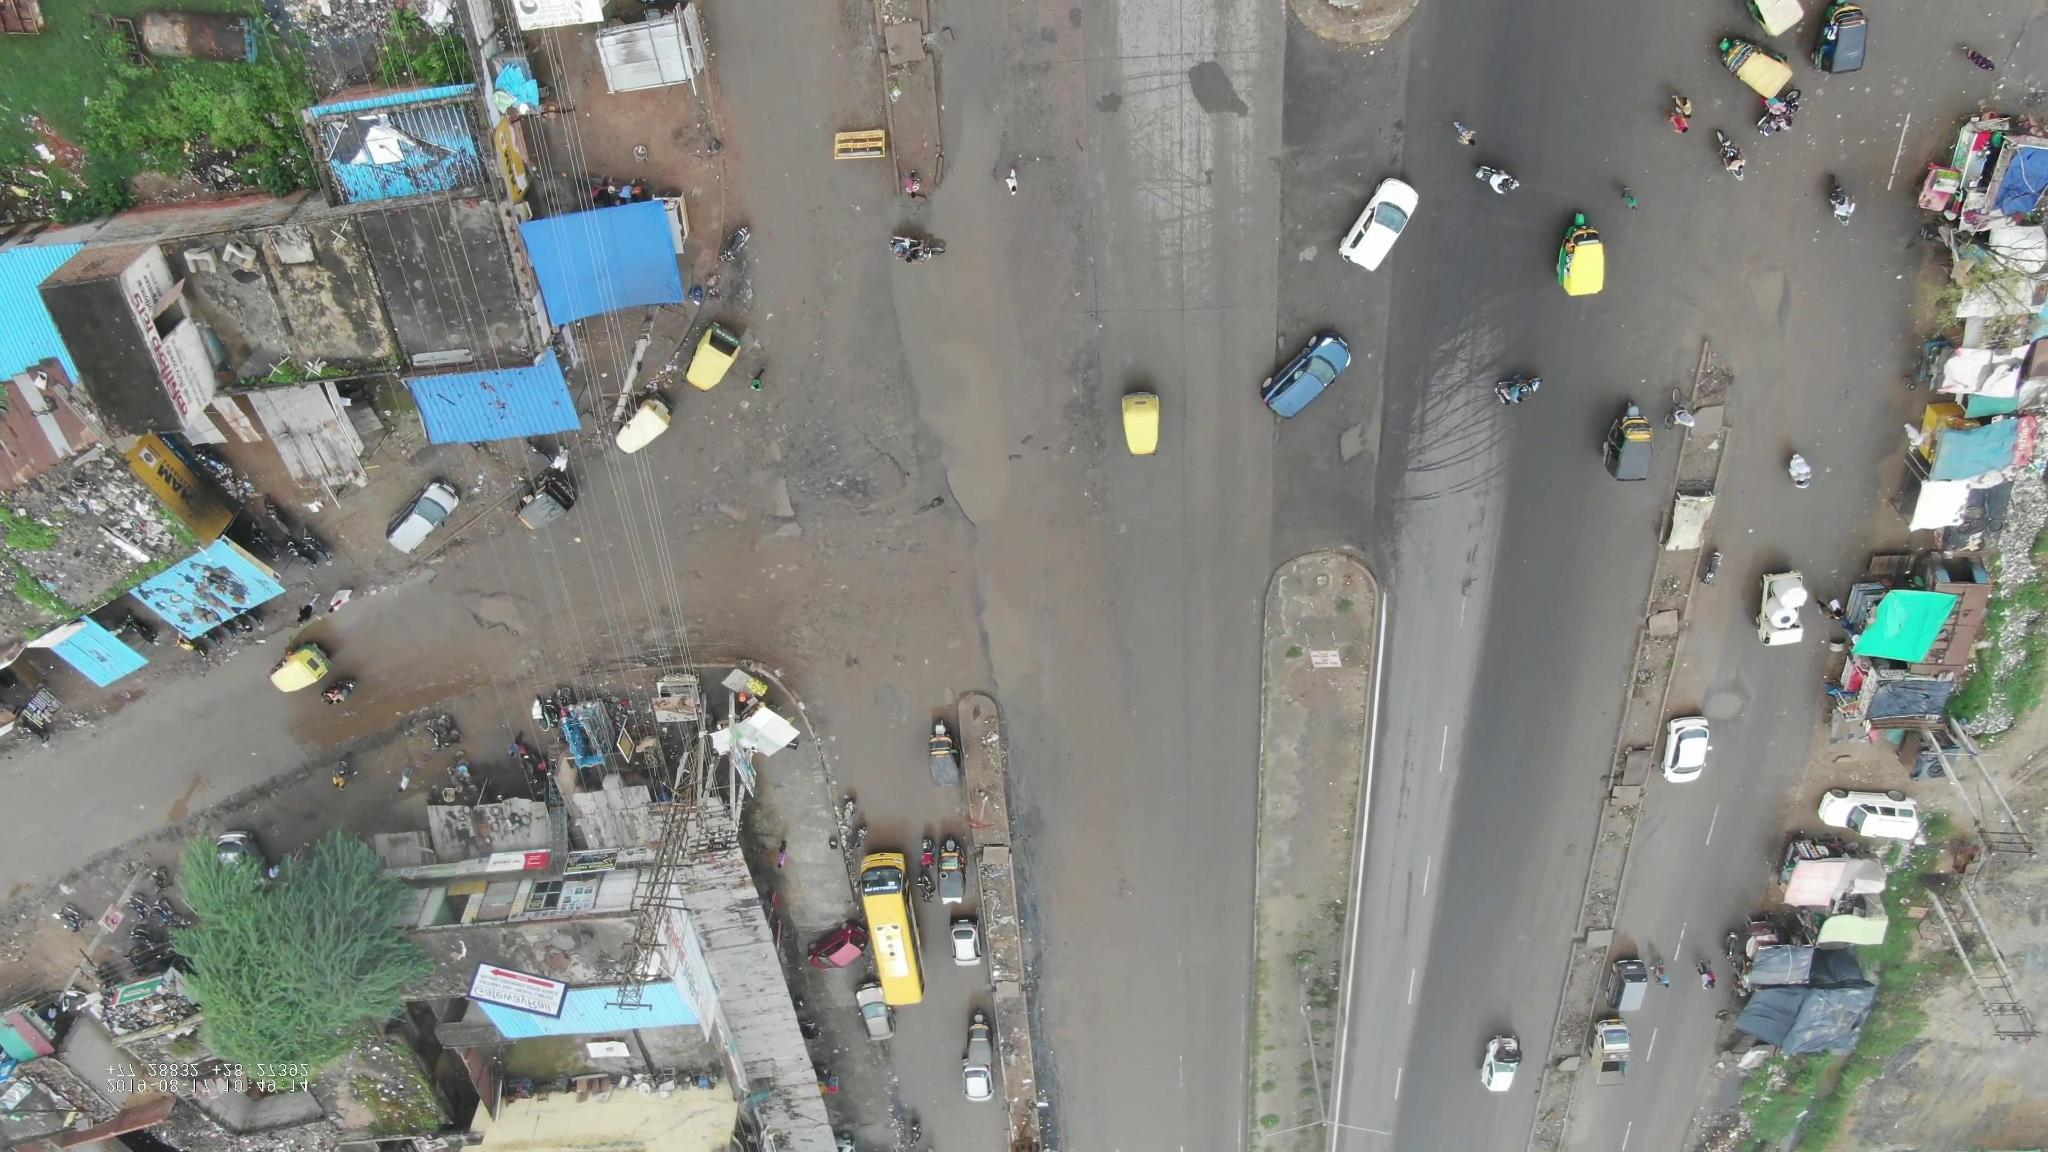Potholes: (810, 418, 921, 523), (1733, 257, 1810, 335), (452, 585, 539, 653), (1702, 685, 1751, 731)
